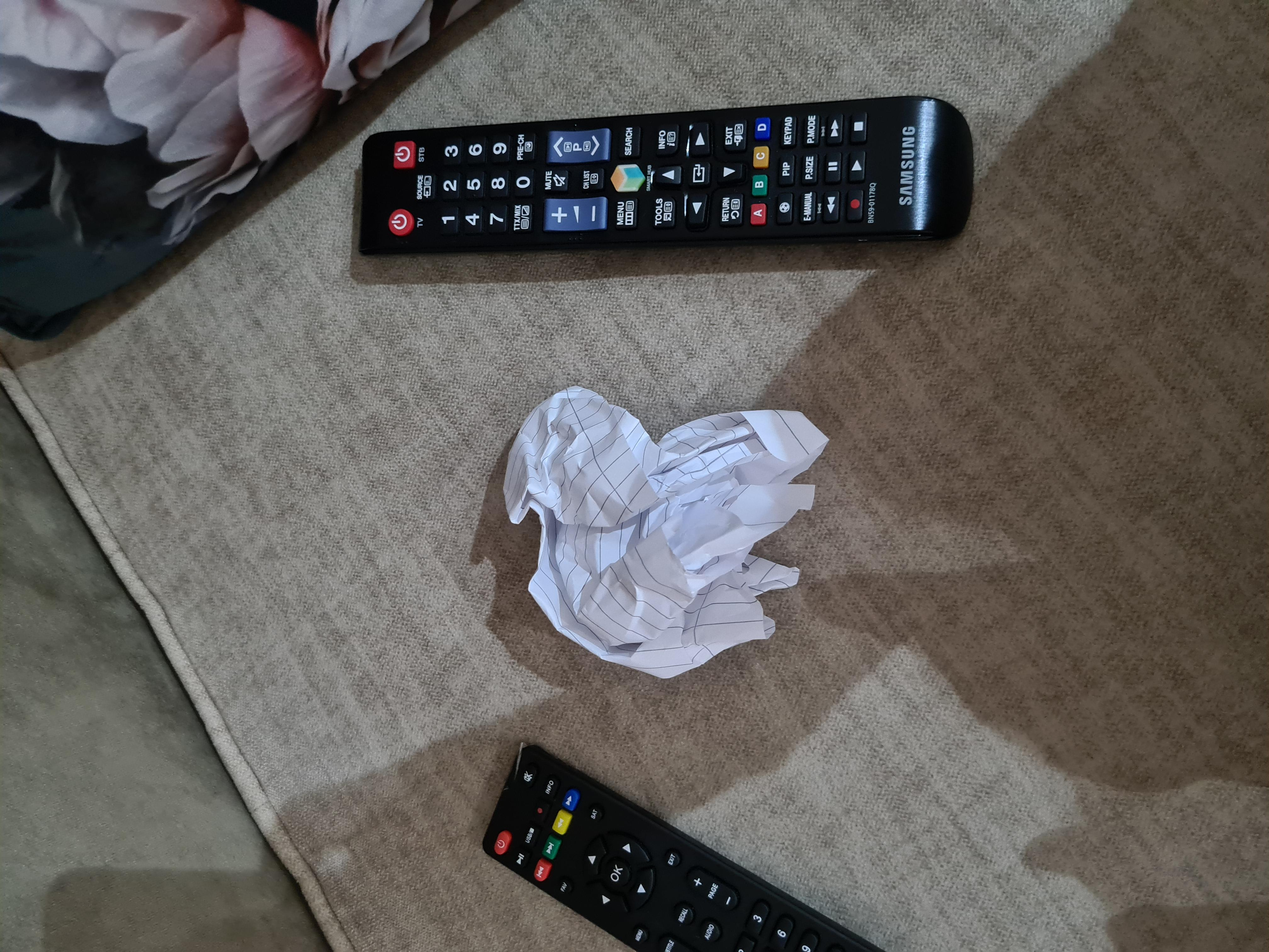paper: (374, 378, 757, 622)
